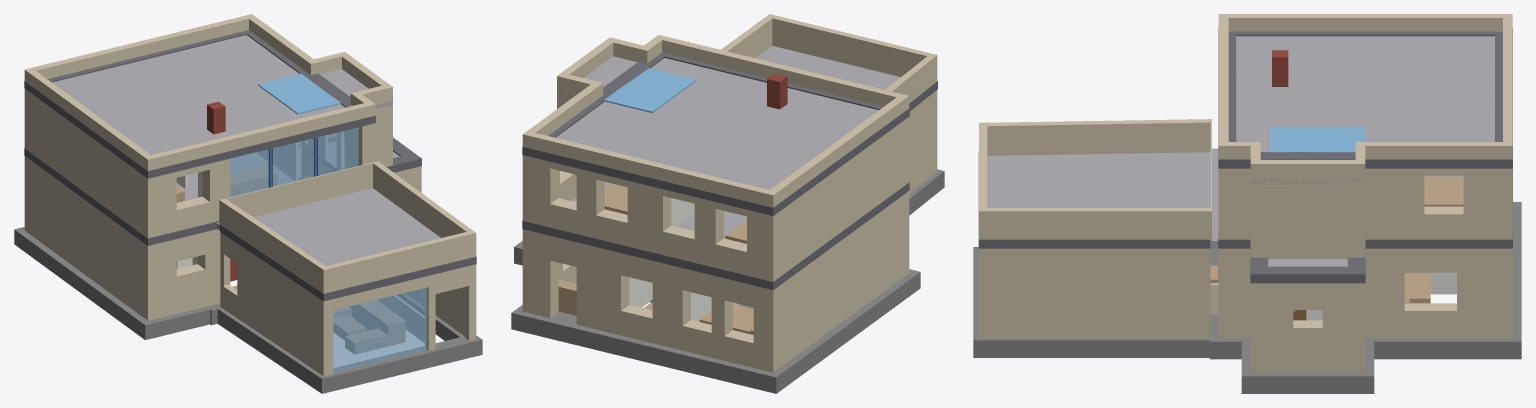
Rendered from casa_v5.glb.
3 views of the same model, side by side, from view 1: azimuth 30°, elevation 25°; view 2: azimuth 150°, elevation 25°; view 3: azimuth 270°, elevation 25° (orthographic). The views are drawn at different scales.
Parts seen in each view (by area): view 1: muros_PB, forjado_cubierta, muros_PA, parapeto_terraza, parapeto_cubierta, cimentacion, forjado_PB_PA, cristal_PB, cristal_PA, zuncho_cubierta, zuncho_forjado, mobiliario (+5 smaller); view 2: muros_PB, muros_PA, forjado_cubierta, parapeto_cubierta, cimentacion, parapeto_terraza, zuncho_cubierta, zuncho_forjado, forjado_PB_PA, mobiliario, lucernario, tabiques_PB (+2 smaller); view 3: muros_PB, forjado_cubierta, muros_PA, parapeto_terraza, cimentacion, forjado_PB_PA, parapeto_cubierta, zuncho_forjado, zuncho_cubierta, lucernario, mobiliario, tabiques_PB (+1 smaller).
Part boxes in pixels (left/top/right/bottom): muros_PB: left=24, top=143, right=476, bottom=375; forjado_cubierta: left=52, top=35, right=392, bottom=154; muros_PA: left=24, top=35, right=392, bottom=238; parapeto_terraza: left=219, top=161, right=476, bottom=293; parapeto_cubierta: left=24, top=14, right=392, bottom=170; cimentacion: left=14, top=227, right=482, bottom=393; forjado_PB_PA: left=176, top=139, right=440, bottom=265; cristal_PB: left=333, top=287, right=427, bottom=372; cristal_PA: left=230, top=127, right=358, bottom=197; zuncho_cubierta: left=24, top=30, right=375, bottom=178; zuncho_forjado: left=24, top=137, right=476, bottom=301; mobiliario: left=176, top=165, right=405, bottom=354; muros_PB: left=522, top=90, right=937, bottom=372; muros_PA: left=522, top=58, right=909, bottom=281; forjado_cubierta: left=556, top=56, right=878, bottom=189; parapeto_cubierta: left=522, top=35, right=909, bottom=207; cimentacion: left=511, top=169, right=944, bottom=393; parapeto_terraza: left=721, top=14, right=937, bottom=103; zuncho_cubierta: left=522, top=52, right=909, bottom=215; zuncho_forjado: left=522, top=81, right=937, bottom=290; forjado_PB_PA: left=571, top=46, right=900, bottom=238; mobiliario: left=558, top=184, right=753, bottom=334; lucernario: left=604, top=68, right=696, bottom=112; tabiques_PB: left=629, top=277, right=738, bottom=321; muros_PB: left=979, top=248, right=1512, bottom=372; forjado_cubierta: left=1236, top=36, right=1494, bottom=185; muros_PA: left=1218, top=36, right=1512, bottom=258; parapeto_terraza: left=979, top=119, right=1211, bottom=240; cimentacion: left=973, top=202, right=1521, bottom=393; forjado_PB_PA: left=987, top=148, right=1347, bottom=266; parapeto_cubierta: left=1218, top=14, right=1512, bottom=178; zuncho_forjado: left=978, top=151, right=1512, bottom=283; zuncho_cubierta: left=1218, top=27, right=1512, bottom=168; lucernario: left=1270, top=127, right=1365, bottom=152; mobiliario: left=1210, top=177, right=1463, bottom=303; tabiques_PB: left=1306, top=272, right=1456, bottom=320.
Bounding box in the file's own units: 12.6 × 7.56 × 16.75.
